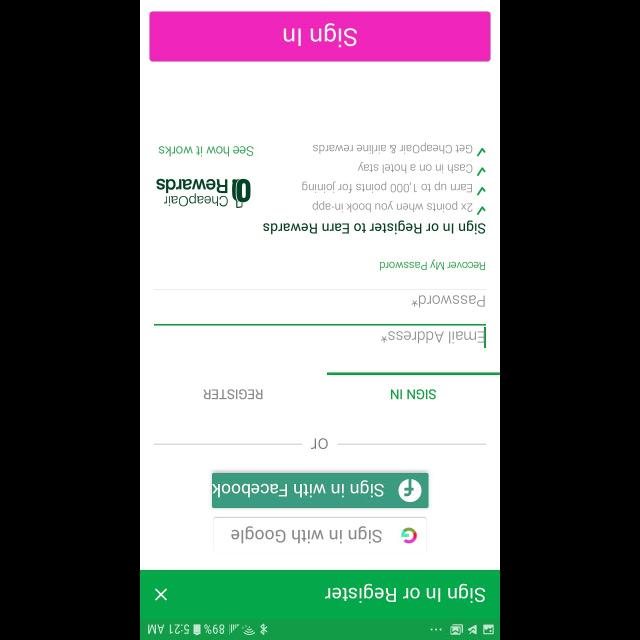icon: (154, 588, 168, 600), (476, 168, 486, 176), (476, 187, 484, 196), (476, 207, 484, 216), (476, 148, 484, 156)
image: (232, 178, 250, 208)
input: (154, 324, 486, 348), (154, 288, 486, 308)
text: (263, 220, 485, 236), (324, 583, 486, 603), (302, 181, 472, 193), (156, 178, 228, 206), (312, 201, 472, 213), (312, 142, 472, 154), (358, 162, 472, 174), (381, 331, 485, 343), (380, 259, 484, 271), (412, 294, 484, 308), (158, 146, 254, 156), (203, 388, 263, 399), (390, 388, 436, 399), (310, 438, 328, 450)
textbutton: (150, 12, 490, 62), (212, 472, 428, 508), (213, 517, 427, 553)
uppertaskbar: (140, 618, 500, 640)
